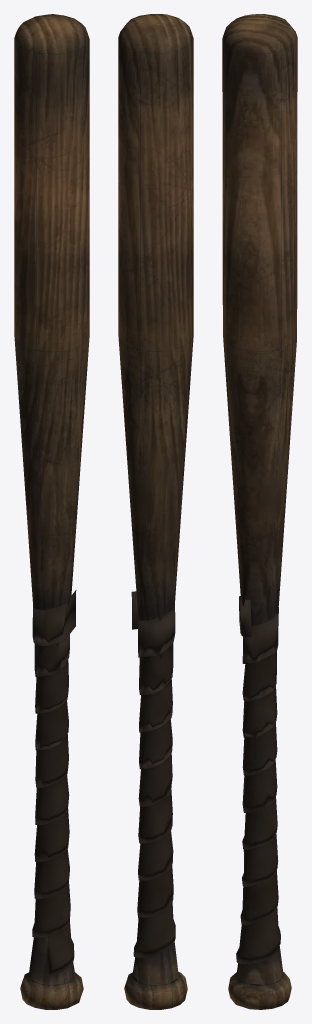
The model's file is bat.glb.
3 renders of one model, left to right at view 1: azimuth 30°, elevation 25°; view 2: azimuth 210°, elevation 25°; view 3: azimuth 270°, elevation 25°, orthographic.
Parts seen in each view (by area): view 1: baseball_bat; view 2: baseball_bat; view 3: baseball_bat.
Part boxes in pixels (box(x1,y1,x2,y2)): baseball_bat: box(14, 14, 89, 1009); baseball_bat: box(118, 14, 193, 1009); baseball_bat: box(222, 14, 297, 1009).
Bounding box in the file's own units: 0.0628 × 0.9132 × 0.0635.
Materials: 1 (1 with a texture image).
